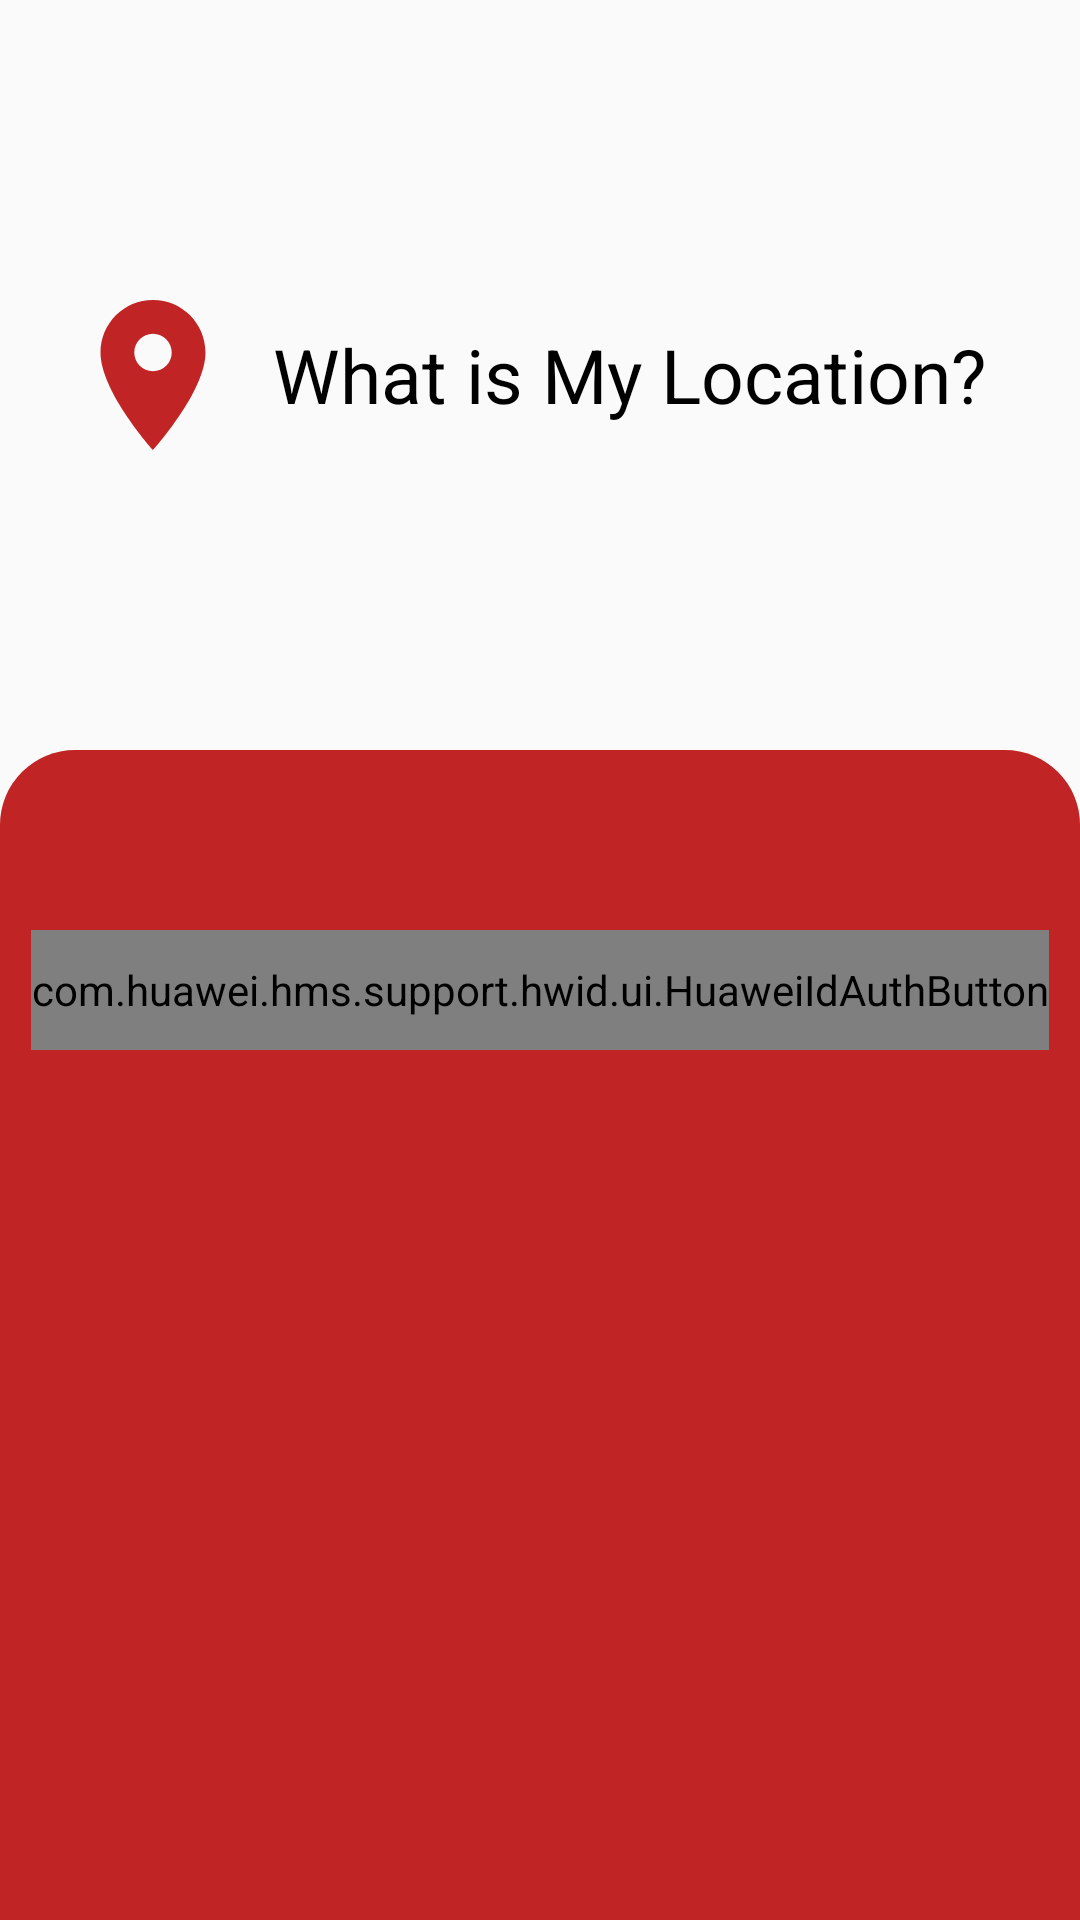

Where to tap for icons on this 1080 x 1920 app screen, as (x=x, y=y):
location on: (x=153, y=375)
